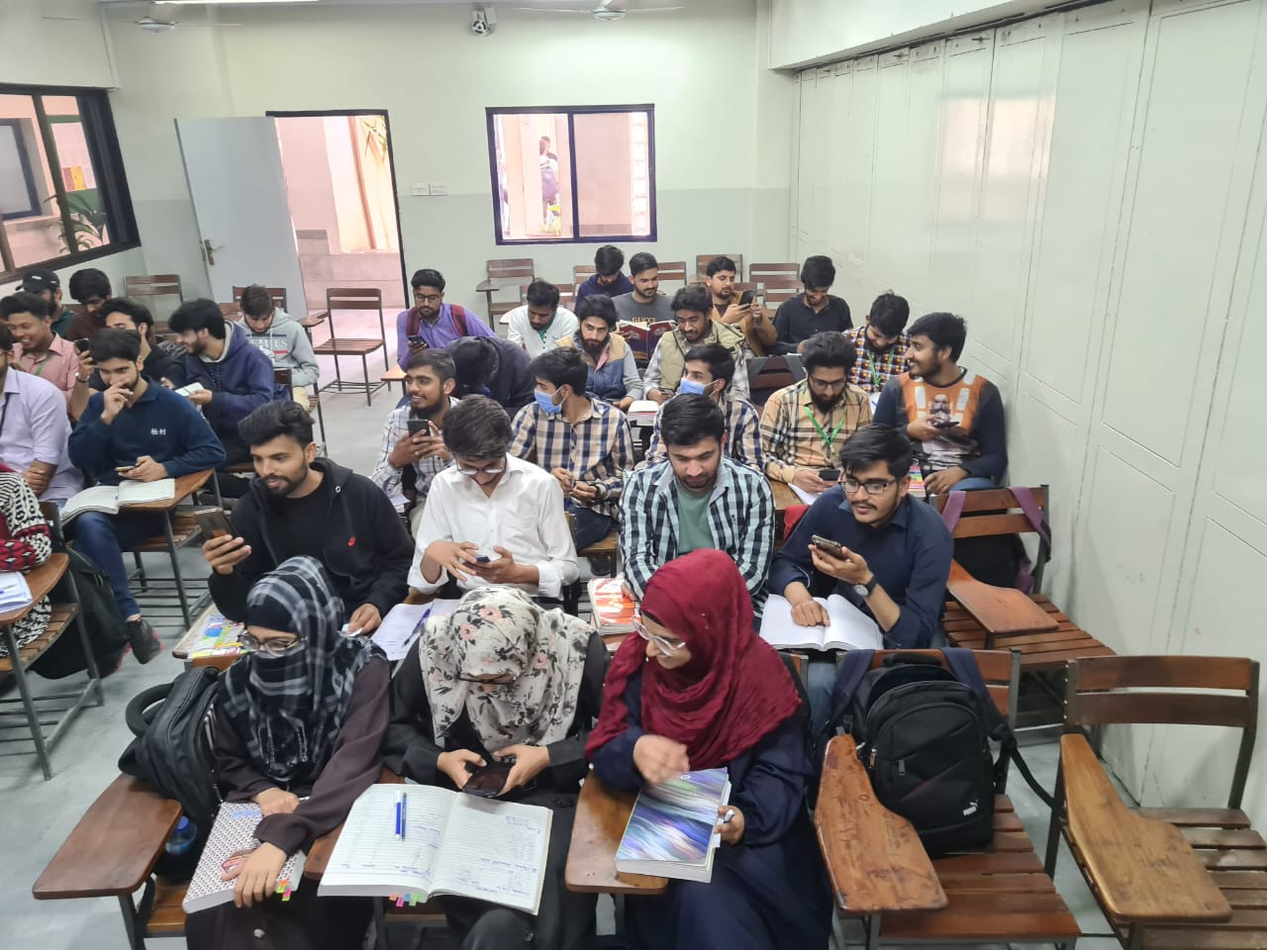non-cheating: (236, 549, 346, 703), (233, 396, 330, 513), (828, 418, 927, 530), (439, 389, 520, 501), (655, 386, 729, 501), (792, 325, 862, 413), (87, 323, 148, 402), (797, 251, 849, 314), (862, 287, 911, 353), (670, 281, 720, 344), (574, 292, 616, 353), (522, 278, 564, 333), (409, 267, 448, 322), (237, 283, 277, 335), (702, 254, 737, 303), (629, 250, 661, 300), (594, 242, 625, 287), (396, 329, 433, 360)
phone: (434, 737, 547, 804), (194, 503, 257, 579), (432, 536, 521, 586), (391, 416, 448, 469), (904, 411, 971, 450), (109, 448, 169, 486), (795, 456, 850, 494), (721, 286, 767, 327)
